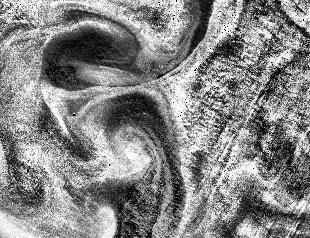AE: (36, 20, 137, 96)
CE: (70, 84, 179, 184)
